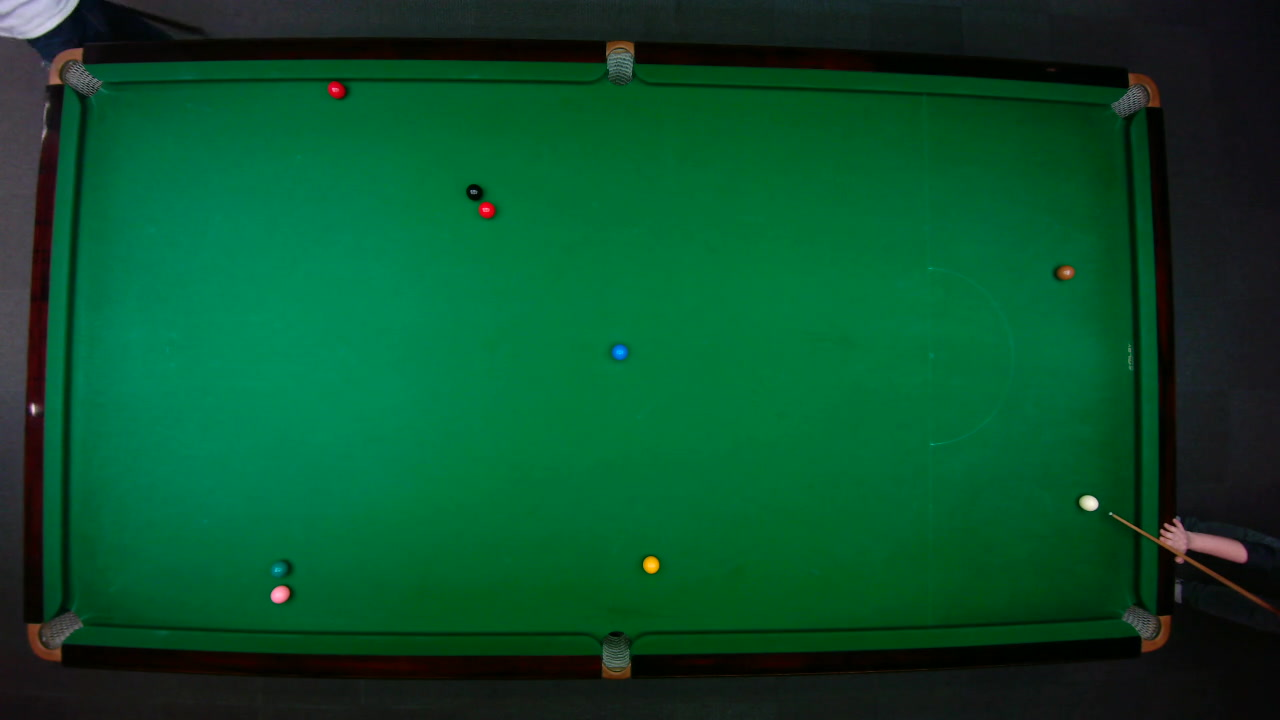bag: (25, 609, 84, 661), (46, 47, 103, 97), (1119, 604, 1171, 652), (1109, 71, 1161, 118), (601, 629, 630, 679), (605, 39, 633, 86)
black: (465, 183, 482, 200)
blue: (610, 342, 628, 360)
brown: (1054, 264, 1075, 280)
cue: (1109, 511, 1276, 614)
green: (268, 558, 289, 577)
pink: (268, 583, 290, 604)
red: (476, 200, 496, 219), (326, 80, 346, 99)
white: (1076, 493, 1099, 511)
yellow: (641, 554, 660, 574)
zone: (927, 266, 1013, 444)
